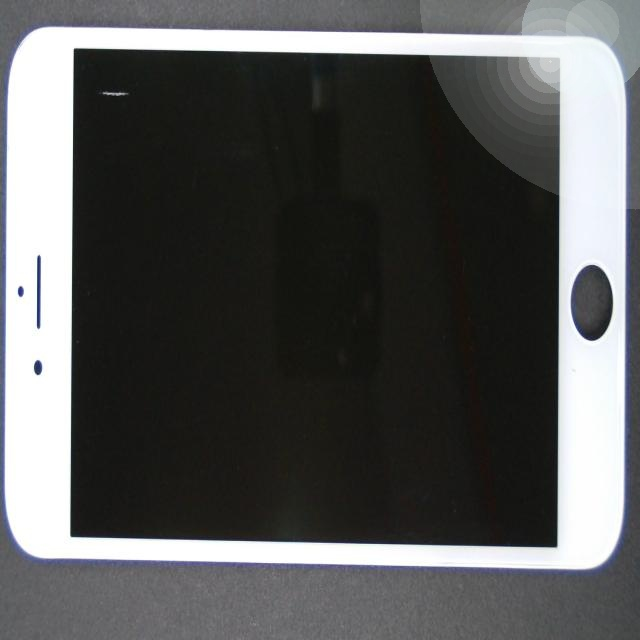scratch: (89, 40, 184, 118)
